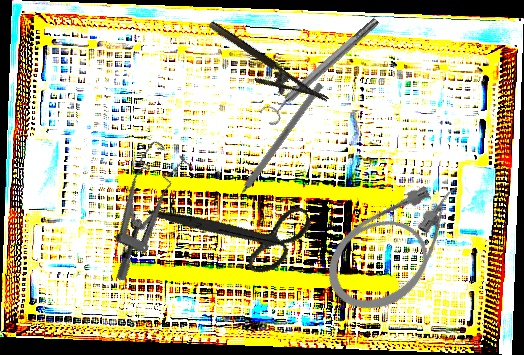Cannula: (310, 163, 491, 329)
Fixation Ring: (257, 12, 386, 128)
Hook Surgical: (226, 82, 324, 213)
Iris Scissors: (146, 154, 323, 306)
Needle Holder: (197, 19, 330, 121)
Speculum: (76, 136, 204, 284)
